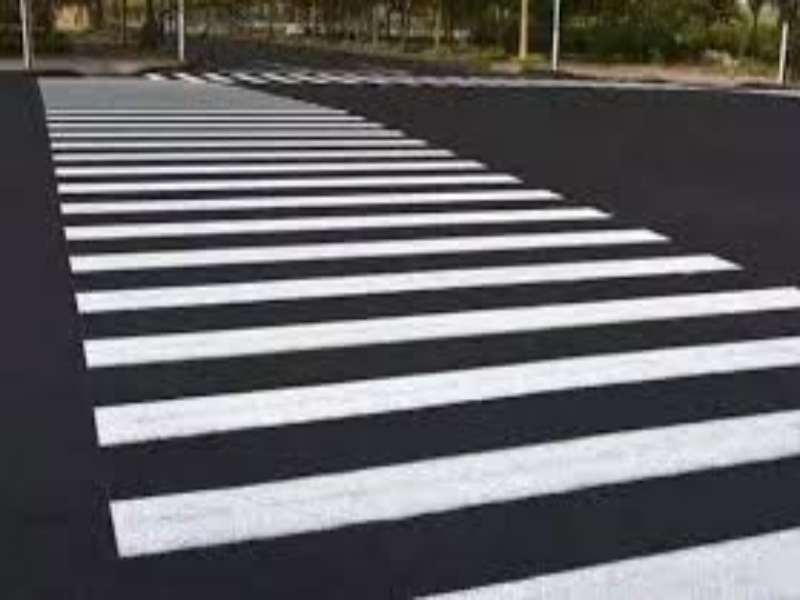zebra cross: (29, 73, 799, 600), (174, 71, 674, 83)
